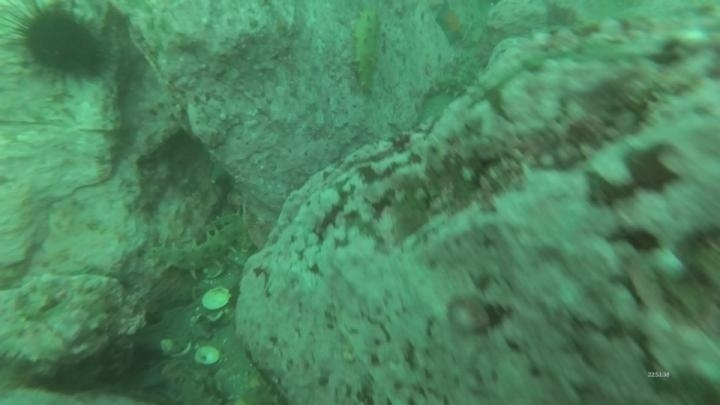echinus: (8, 3, 110, 87)
holothurian: (146, 210, 251, 280), (347, 7, 386, 97), (426, 49, 486, 100)
starfish: (432, 2, 470, 47)
